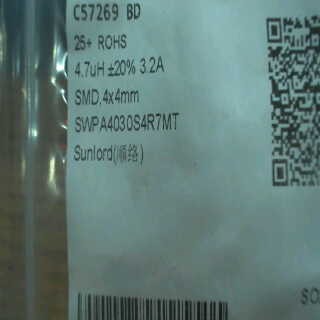4.7uH: (72, 59, 106, 79)
